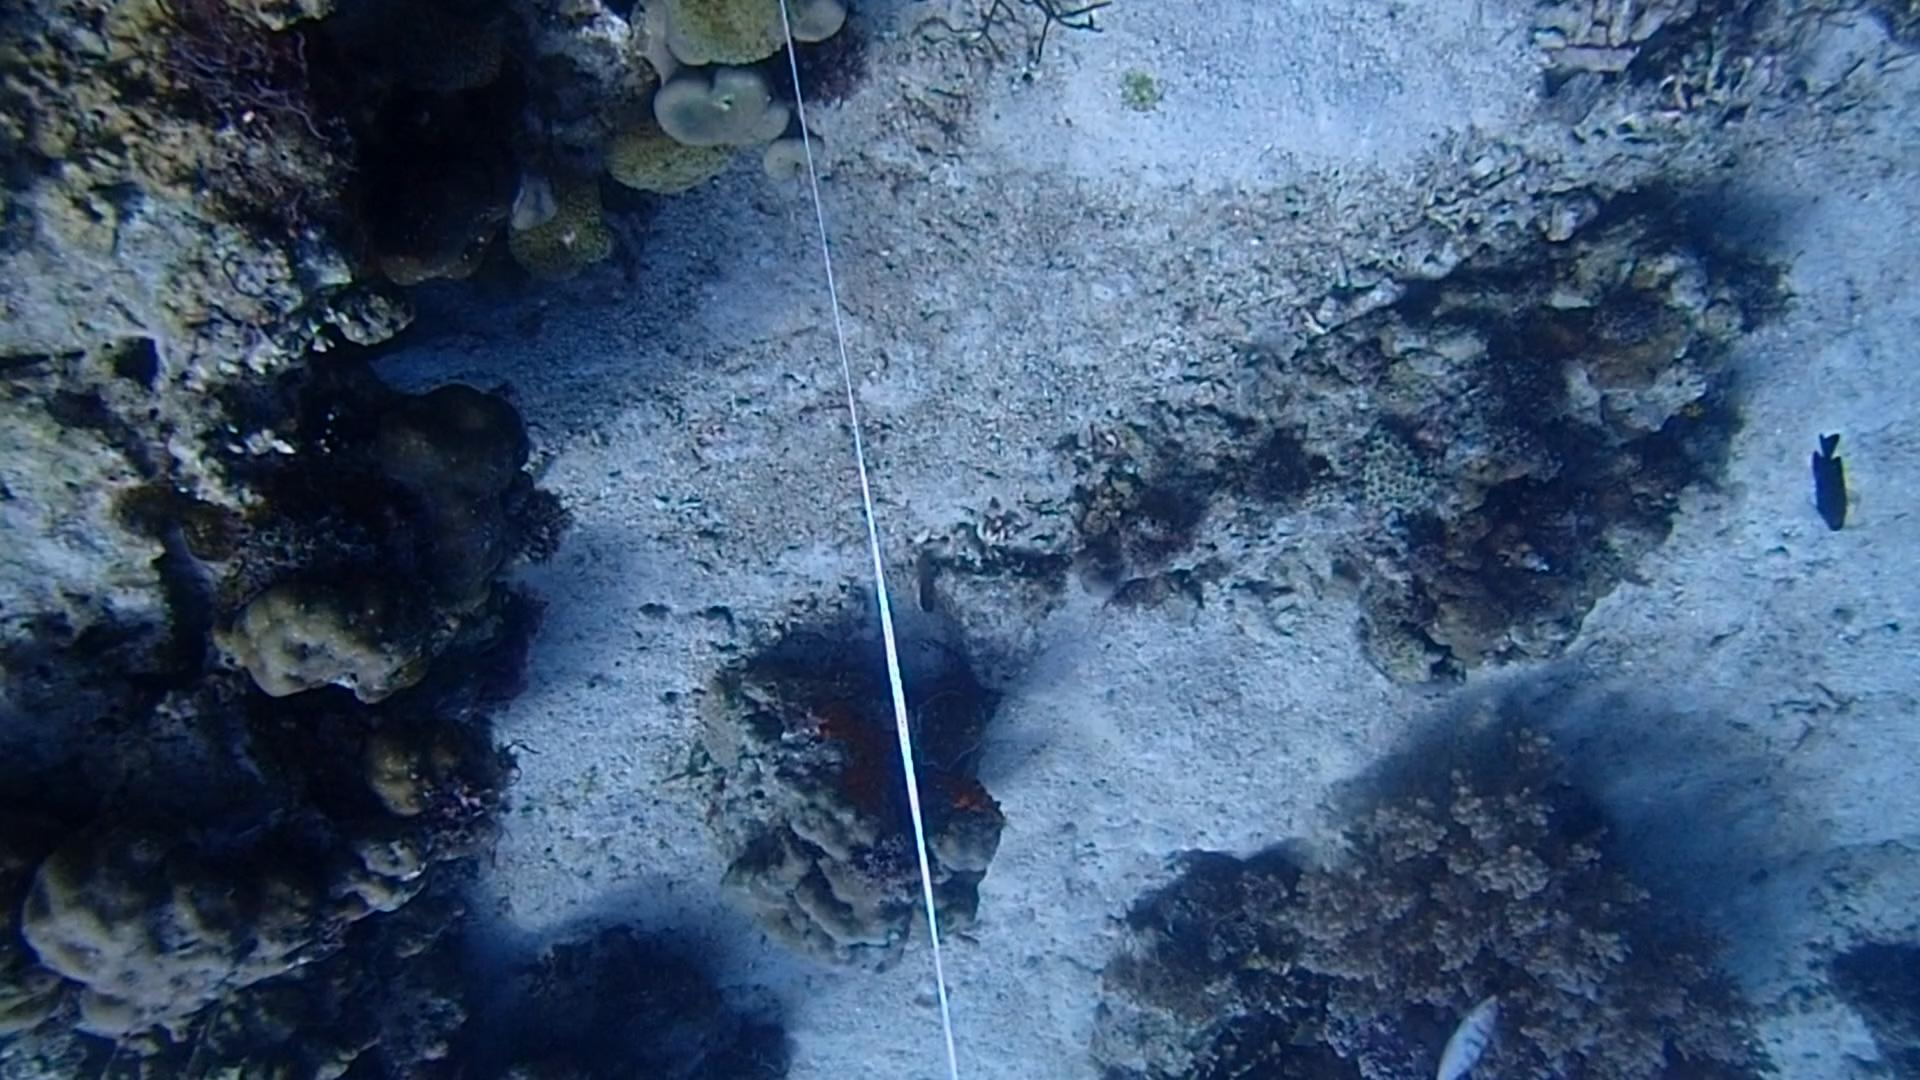Dark Fish: (1787, 438, 1869, 543)
